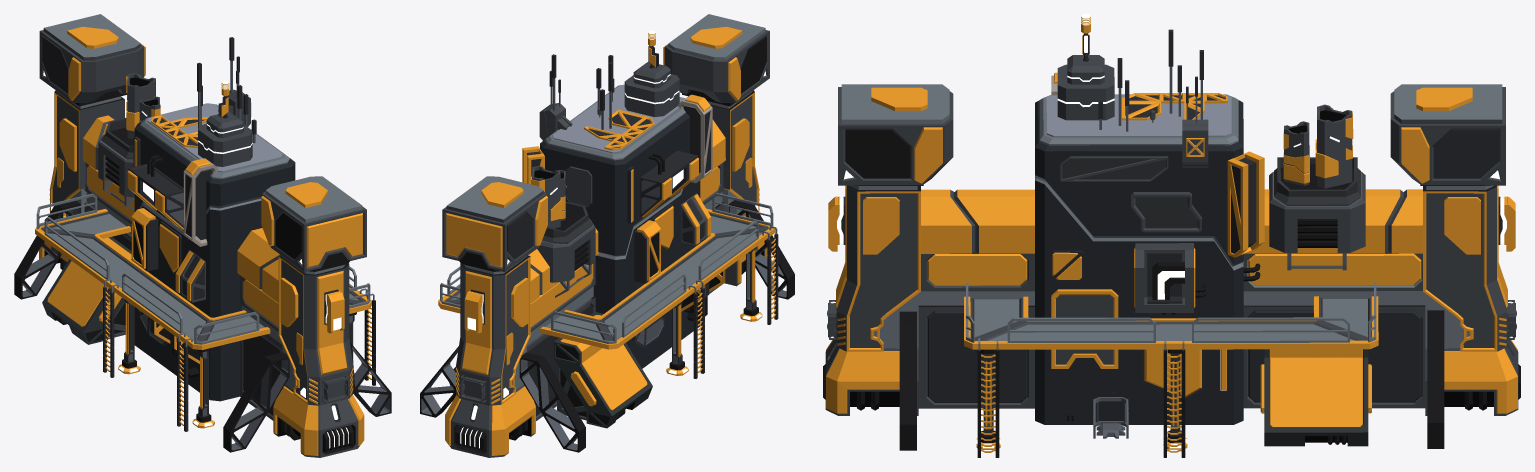
File: SM_Foundry.glb
3 views of the same model, side by side, from view 1: azimuth 30°, elevation 25°; view 2: azimuth 150°, elevation 25°; view 3: azimuth 270°, elevation 25° (orthographic). The views are drawn at different scales.
Visible parts, largest first — view 1: SM_Foundry; view 2: SM_Foundry; view 3: SM_Foundry.
Part boxes in pixels (x1,y1,x2,y2): SM_Foundry: [14, 14, 391, 457]; SM_Foundry: [420, 14, 794, 457]; SM_Foundry: [823, 14, 1520, 457].
Bounding box in the file's own units: 11.96 × 17.97 × 30.03.
3 materials, 1 textured.
